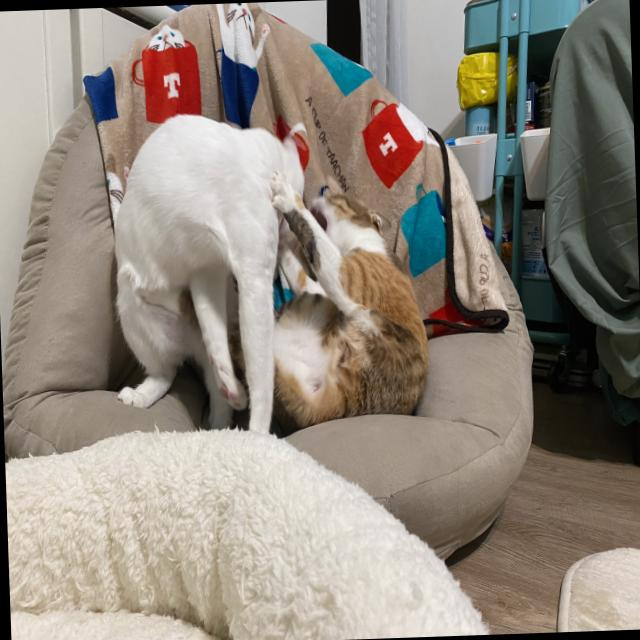cat1: (102, 116, 314, 442)
cat2: (263, 186, 427, 436)
